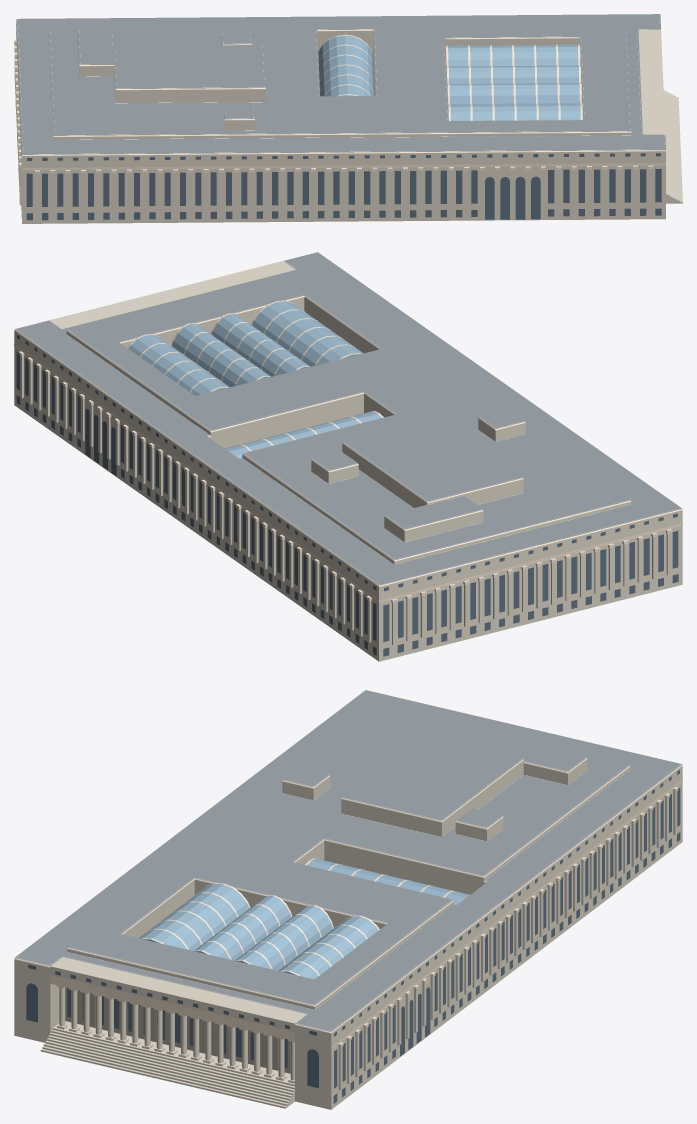
The picture shows the model from 3 angles, top to bottom: view 1: azimuth 30°, elevation 25°; view 2: azimuth 150°, elevation 25°; view 3: azimuth 270°, elevation 25°; orthographic projection. The views are drawn at different scales.
Visible parts, largest first — view 1: moynihan-train-hall-james-a-farley-building; view 2: moynihan-train-hall-james-a-farley-building; view 3: moynihan-train-hall-james-a-farley-building.
Part boxes in pixels (bbox=[...]): moynihan-train-hall-james-a-farley-building: bbox=[14, 14, 682, 223]; moynihan-train-hall-james-a-farley-building: bbox=[14, 252, 682, 661]; moynihan-train-hall-james-a-farley-building: bbox=[14, 690, 682, 1109].
Size of the model in its own units: 255 by 34 by 210.
